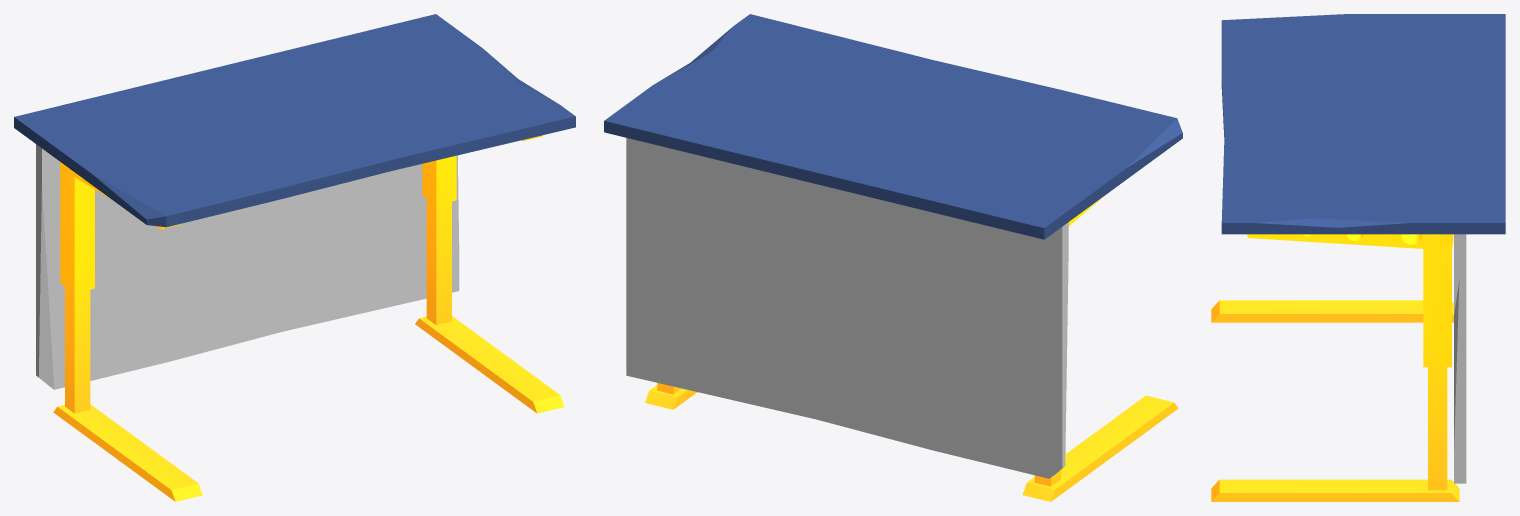
File: SM_Prop_TeacherDesk.fbx
3 renders of one model, left to right at view 1: azimuth 30°, elevation 25°; view 2: azimuth 150°, elevation 25°; view 3: azimuth 270°, elevation 25°, orthographic. The views are drawn at different scales.
Parts seen in each view (by area): view 1: SM_Prop_Desk_Standing_01; view 2: SM_Prop_Desk_Standing_01; view 3: SM_Prop_Desk_Standing_01.
Part boxes in pixels (x1,y1,x2,y2): SM_Prop_Desk_Standing_01: (14, 14, 575, 501); SM_Prop_Desk_Standing_01: (604, 14, 1182, 501); SM_Prop_Desk_Standing_01: (1211, 14, 1505, 501).
Size of the model in its own units: 160 by 103 by 95.26.
Materials: 1 (1 with a texture image).
